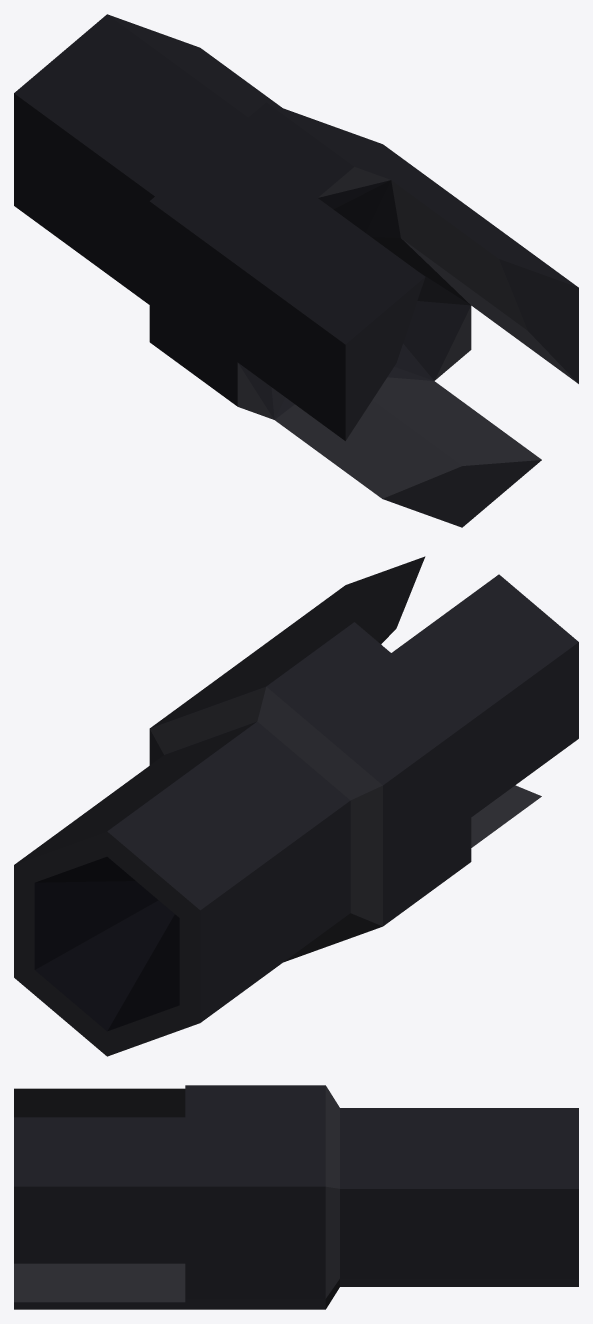
File: MW1_MuzzleDevice_12ga_02.fbx
3 renders of one model, top to bottom at view 1: azimuth 30°, elevation 25°; view 2: azimuth 150°, elevation 25°; view 3: azimuth 270°, elevation 25°, orthographic. The views are drawn at different scales.
Parts seen in each view (by area): view 1: MuzzleDevice_12ga_02; view 2: MuzzleDevice_12ga_02; view 3: MuzzleDevice_12ga_02.
Part boxes in pixels (x1=…): MuzzleDevice_12ga_02: x1=14, y1=14, x2=578, y2=527; MuzzleDevice_12ga_02: x1=14, y1=556, x2=578, y2=1056; MuzzleDevice_12ga_02: x1=14, y1=1085, x2=578, y2=1309.
Size of the model in its own units: 3.44 by 3.97 by 9.06.
